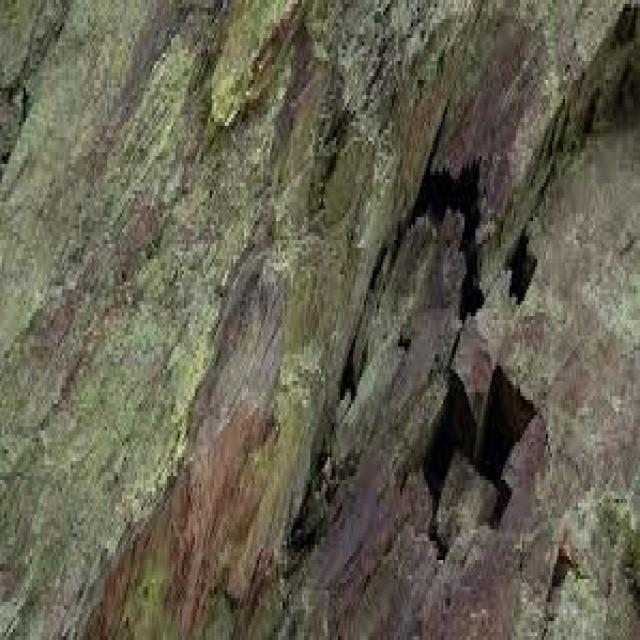Metamorphic: (2, 4, 627, 625)
